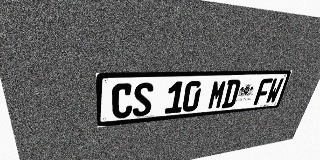0: (181, 81, 203, 112)
1: (165, 81, 186, 114)
C: (112, 83, 133, 119)
D: (221, 79, 242, 108)
F: (253, 78, 273, 105)
M: (207, 80, 228, 110)
S: (132, 82, 154, 117)
W: (264, 78, 284, 104)
